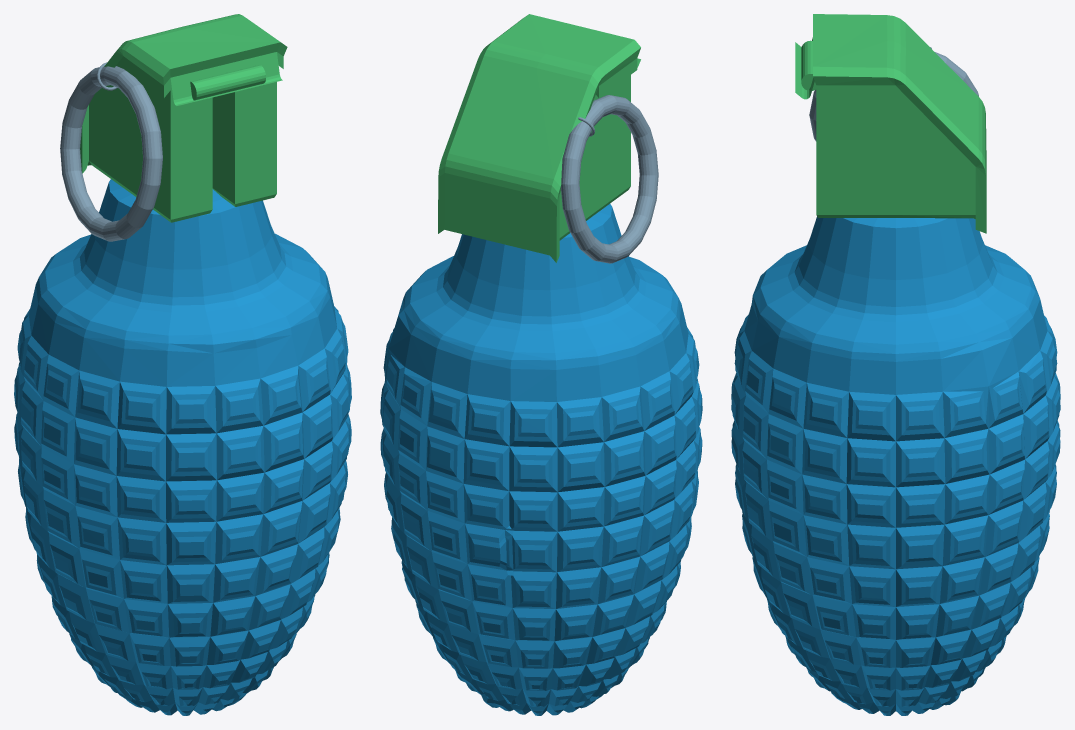
3 renders of one model, left to right at view 1: azimuth 30°, elevation 25°; view 2: azimuth 150°, elevation 25°; view 3: azimuth 270°, elevation 25°, orthographic. The views are drawn at different scales.
Visible parts, largest first — view 1: world; view 2: world; view 3: world.
Boxes of the visible parts, box(x1,y1,x2,y2) form: world: box(14, 14, 351, 715); world: box(380, 14, 702, 715); world: box(731, 14, 1060, 715).
Bounding box in the file's own units: 0.4496 × 1 × 0.4496.
